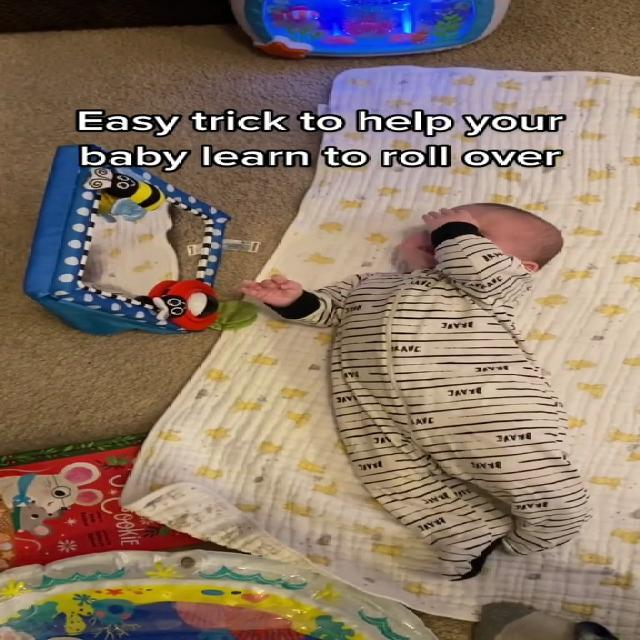baby: (230, 200, 614, 584)
